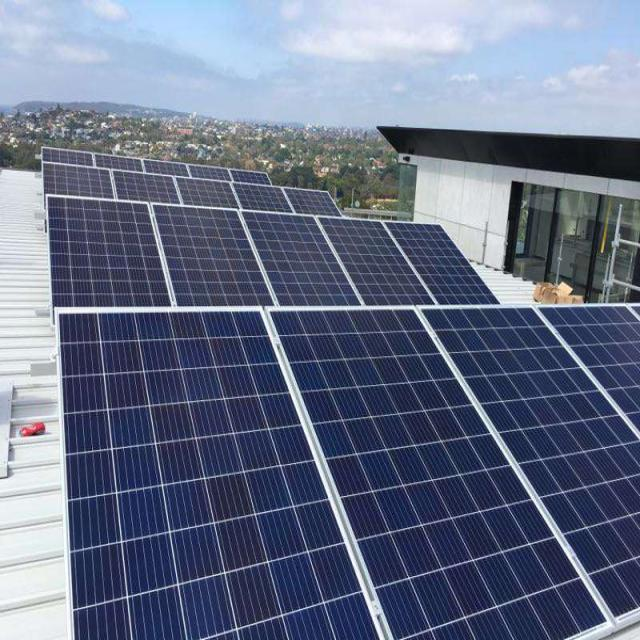clean-solar-panel: (44, 150, 640, 638)
